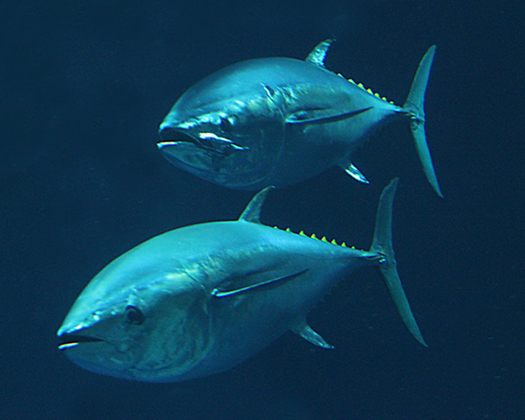Bluefina Tuna: (55, 186, 429, 391), (154, 40, 452, 197)
